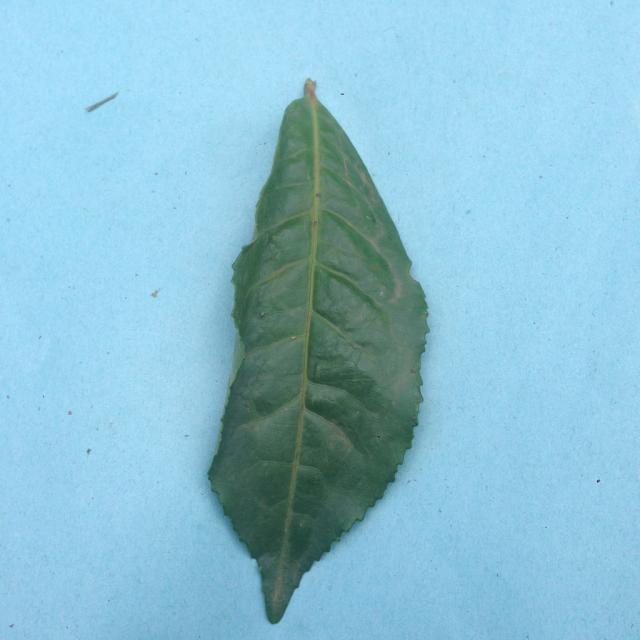Healthy: (183, 50, 462, 640)
